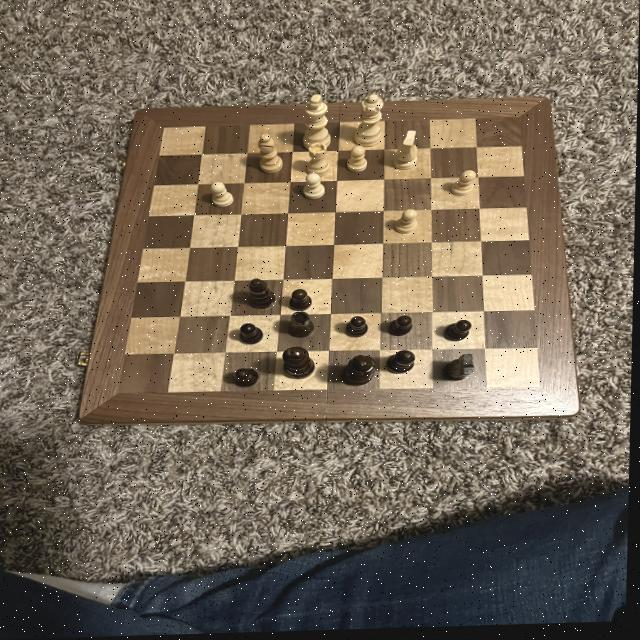bishop: (244, 277, 281, 317), (383, 349, 423, 383)
black-bishop: (279, 346, 321, 384)
black-king: (436, 353, 481, 392)
black-knight: (438, 320, 476, 348), (236, 321, 269, 349), (284, 288, 317, 315), (387, 314, 417, 343), (230, 368, 264, 392), (342, 316, 371, 343)
black-pawn: (340, 354, 380, 394)
black-queen: (281, 312, 321, 345)
black-rook: (253, 133, 288, 178)
white-bishop: (298, 93, 337, 157)
white-king: (388, 129, 427, 176)
white-knight: (205, 181, 240, 213), (450, 170, 482, 202), (343, 146, 371, 177), (298, 175, 330, 202), (393, 211, 420, 242)
white-pawn: (349, 96, 389, 152)
white-queen: (298, 142, 335, 183)
